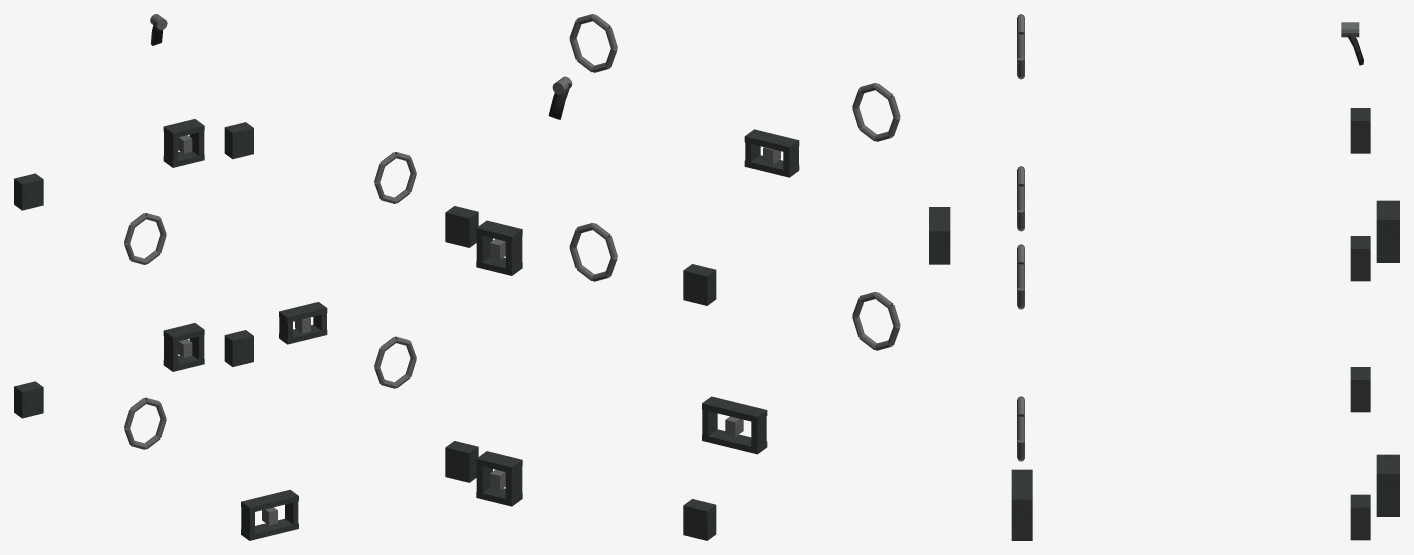
The model's file is PZ_MorrowTrail35_Clips_Buckles_D_Rings.glb.
The picture shows the model from 3 angles, left to right: view 1: azimuth 30°, elevation 25°; view 2: azimuth 150°, elevation 25°; view 3: azimuth 270°, elevation 25°; orthographic projection. The views are drawn at different scales.
Visible parts, largest first — view 1: Compression_StrapKeeper_-1_47, Compression_StrapKeeper_-1_20, Compression_StrapKeeper_1_47, Compression_StrapKeeper_1_20, Waist_Center_QuickClip_Top, Sternum_QuickClip_Top, Waist_Center_QuickClip_Bottom, Front_SideCompression_Clip_47_Top, Front_SideCompression_Clip_21_Top; view 2: Compression_StrapKeeper_-1_47, Compression_StrapKeeper_-1_20, Compression_StrapKeeper_1_47, Compression_StrapKeeper_1_20, Waist_Center_QuickClip_Top, Sternum_QuickClip_Top, Waist_Center_QuickClip_Bottom, Front_SideCompression_Clip_47_Top, Front_SideCompression_Clip_21_Top, Sternum_QuickClip_Bottom; view 3: Compression_StrapKeeper_1_20, Compression_StrapKeeper_-1_47, Compression_StrapKeeper_-1_20, Compression_StrapKeeper_1_47, Waist_Center_QuickClip_Top, Front_SideCompression_Clip_21_Side1, Front_SideCompression_Clip_47_Side1, Sternum_QuickClip_Top, Front_SideCompression_Clip_21_Top, Front_SideCompression_Clip_47_Top, Waist_Center_QuickClip_Side1.
Boxes of the visible parts, x1=… form: Compression_StrapKeeper_-1_47: x1=14, y1=173, x2=43, y2=210; Compression_StrapKeeper_-1_20: x1=14, y1=381, x2=43, y2=418; Compression_StrapKeeper_1_47: x1=224, y1=122, x2=253, y2=159; Compression_StrapKeeper_1_20: x1=224, y1=330, x2=253, y2=366; Waist_Center_QuickClip_Top: x1=241, y1=489, x2=298, y2=513; Sternum_QuickClip_Top: x1=279, y1=302, x2=327, y2=322; Waist_Center_QuickClip_Bottom: x1=241, y1=518, x2=298, y2=540; Front_SideCompression_Clip_47_Top: x1=163, y1=119, x2=204, y2=138; Front_SideCompression_Clip_21_Top: x1=163, y1=323, x2=204, y2=342; Compression_StrapKeeper_-1_47: x1=683, y1=264, x2=716, y2=305; Compression_StrapKeeper_-1_20: x1=683, y1=499, x2=716, y2=540; Compression_StrapKeeper_1_47: x1=445, y1=206, x2=478, y2=247; Compression_StrapKeeper_1_20: x1=445, y1=441, x2=478, y2=482; Waist_Center_QuickClip_Top: x1=702, y1=396, x2=767, y2=422; Sternum_QuickClip_Top: x1=744, y1=129, x2=799, y2=153; Waist_Center_QuickClip_Bottom: x1=702, y1=429, x2=767, y2=454; Front_SideCompression_Clip_47_Top: x1=476, y1=220, x2=522, y2=242; Front_SideCompression_Clip_21_Top: x1=476, y1=451, x2=522, y2=473; Sternum_QuickClip_Bottom: x1=744, y1=155, x2=799, y2=177; Compression_StrapKeeper_1_20: x1=1350, y1=494, x2=1370, y2=540; Compression_StrapKeeper_-1_47: x1=1350, y1=108, x2=1370, y2=153; Compression_StrapKeeper_-1_20: x1=1350, y1=367, x2=1370, y2=412; Compression_StrapKeeper_1_47: x1=1350, y1=236, x2=1370, y2=281; Waist_Center_QuickClip_Top: x1=1011, y1=469, x2=1032, y2=506; Front_SideCompression_Clip_21_Side1: x1=1376, y1=480, x2=1399, y2=510; Front_SideCompression_Clip_47_Side1: x1=1376, y1=226, x2=1399, y2=255; Sternum_QuickClip_Top: x1=929, y1=207, x2=950, y2=237; Front_SideCompression_Clip_21_Top: x1=1376, y1=454, x2=1399, y2=480; Front_SideCompression_Clip_47_Top: x1=1376, y1=200, x2=1399, y2=226; Waist_Center_QuickClip_Side1: x1=1011, y1=506, x2=1032, y2=533.
Bounding box in the file's own units: 0.3972 × 0.5375 × 0.445.
Materials: 3 (3 with a texture image).
